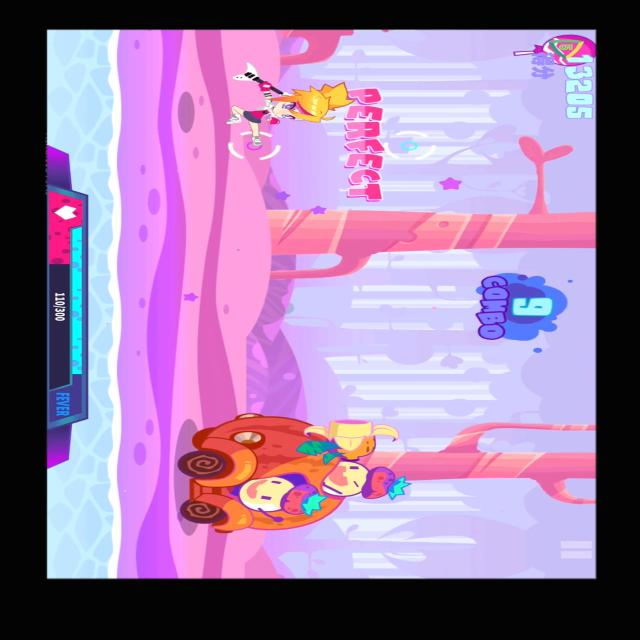Boss-Pumpkin: (173, 406, 413, 540)
